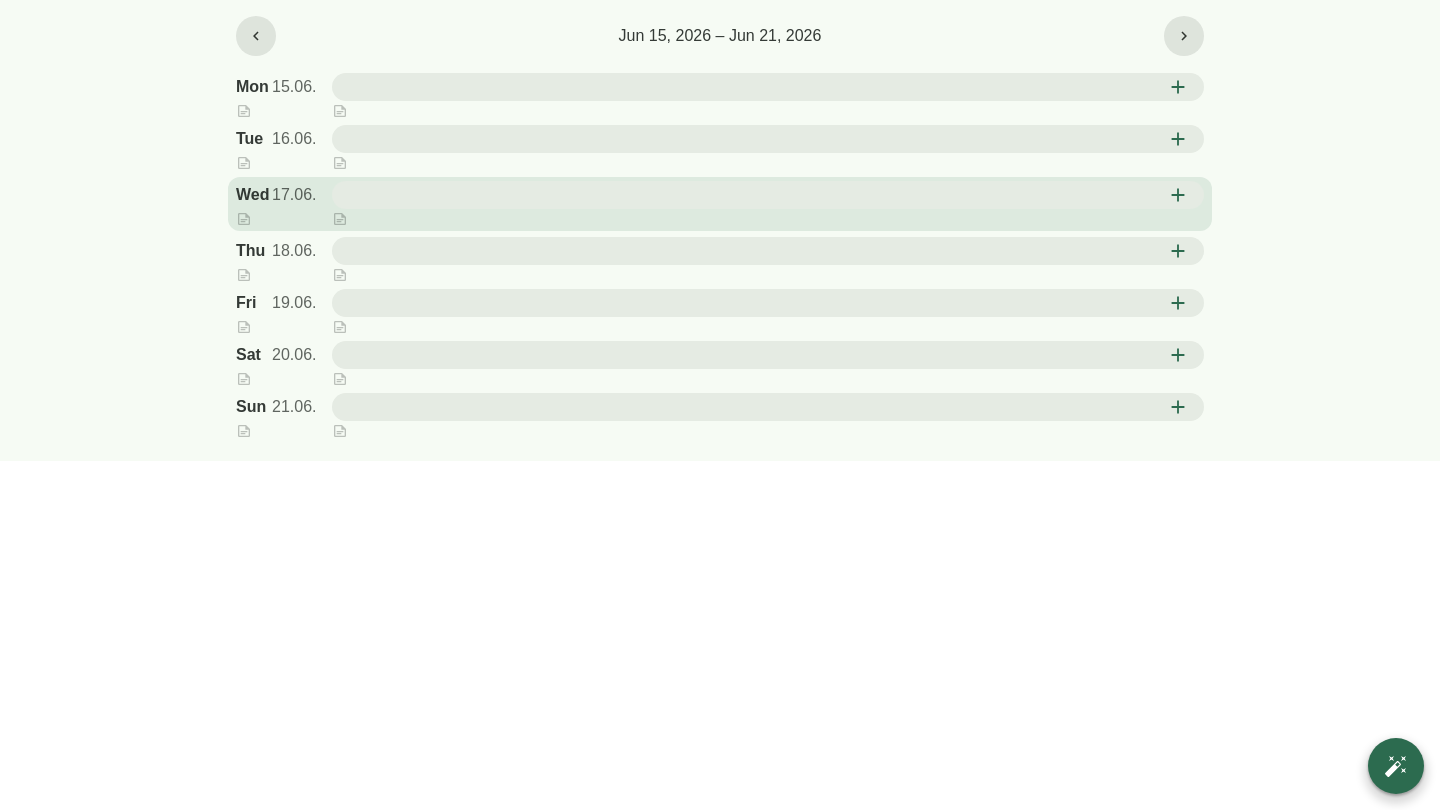
MealPlanView week navigation › navigates to the previous week when the back arrow is clicked
Click the button named "Previous week": (256, 36) [236, 16, 276, 56]
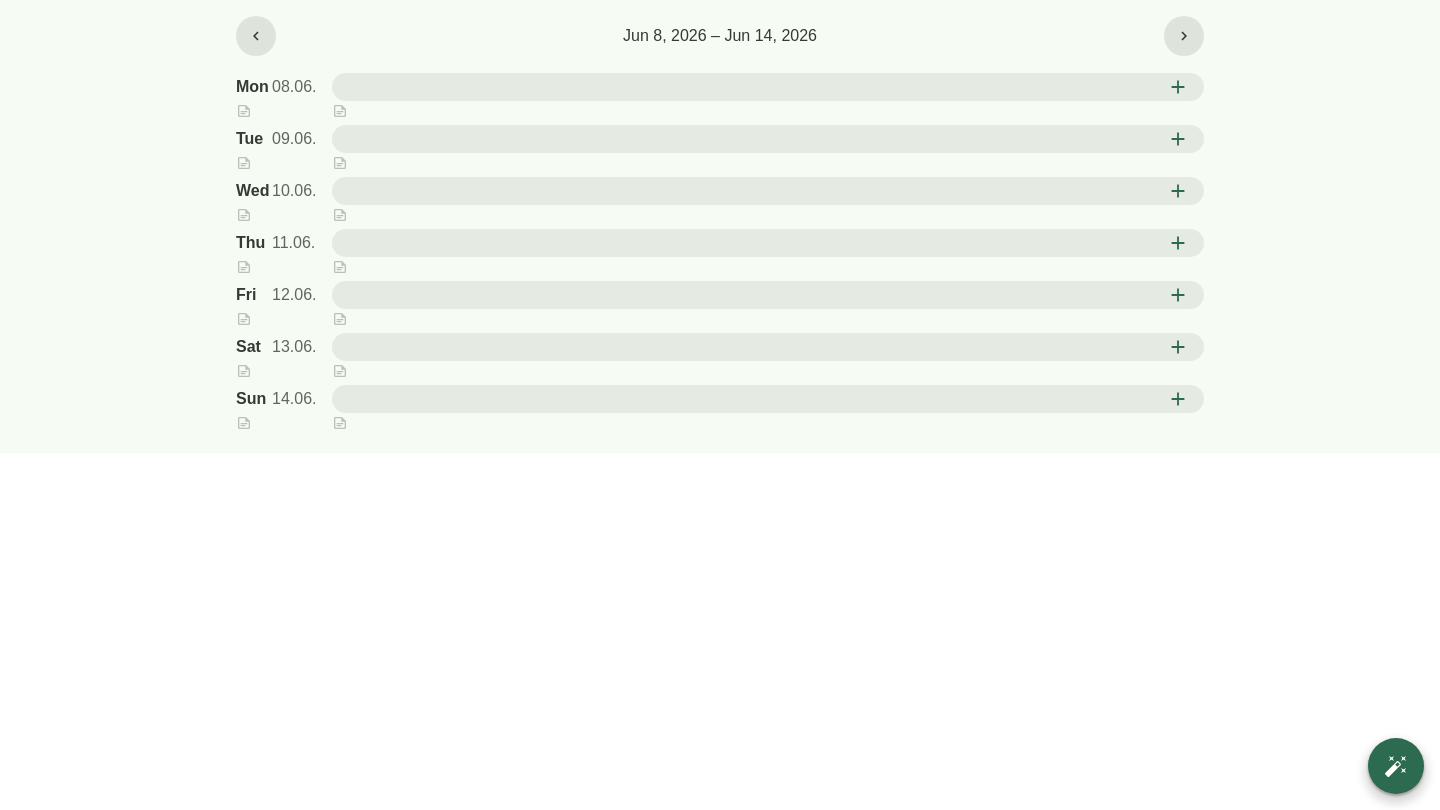
Expected: the text "Jun 8, 2026" is shown, [623, 27, 817, 44]
Expected: the text "Jun 14, 2026" is shown, [623, 27, 817, 44]
